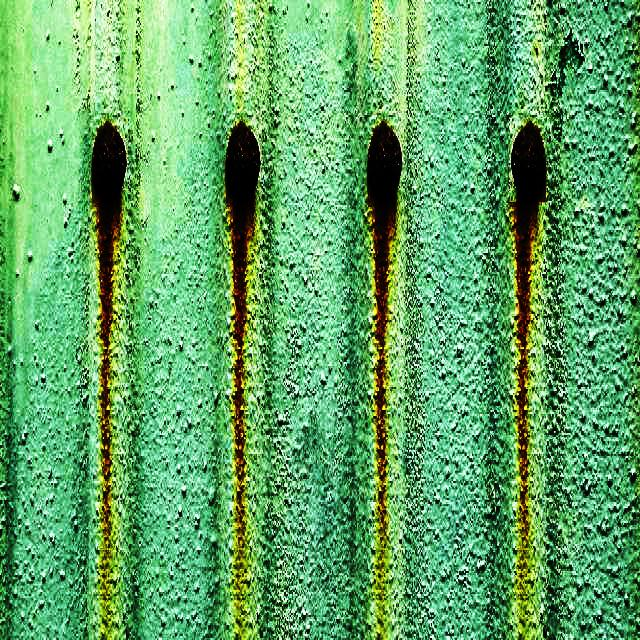Corrosion: (91, 122, 126, 632), (368, 122, 403, 632), (226, 122, 261, 604), (512, 122, 547, 562)
